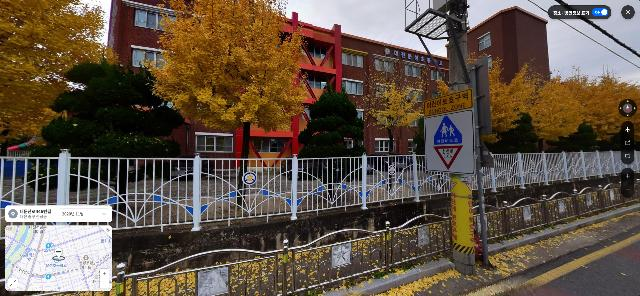ginkgo: (143, 1, 312, 193), (418, 55, 639, 150), (1, 0, 120, 149), (423, 55, 531, 140), (358, 59, 423, 167), (518, 63, 590, 150), (577, 69, 639, 141), (487, 55, 536, 140)
other: (26, 60, 186, 224), (297, 81, 365, 183), (495, 113, 537, 154), (556, 121, 604, 152)
